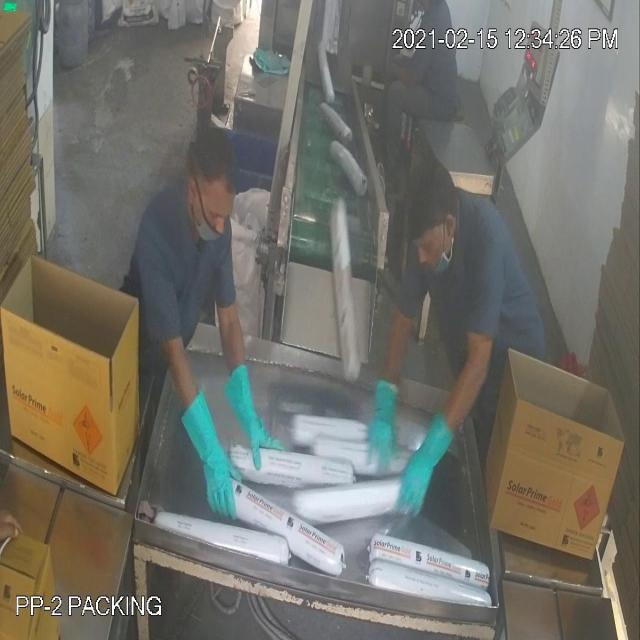gloves: (173, 386, 241, 524), (214, 348, 280, 476), (389, 396, 451, 526), (365, 359, 403, 481)
